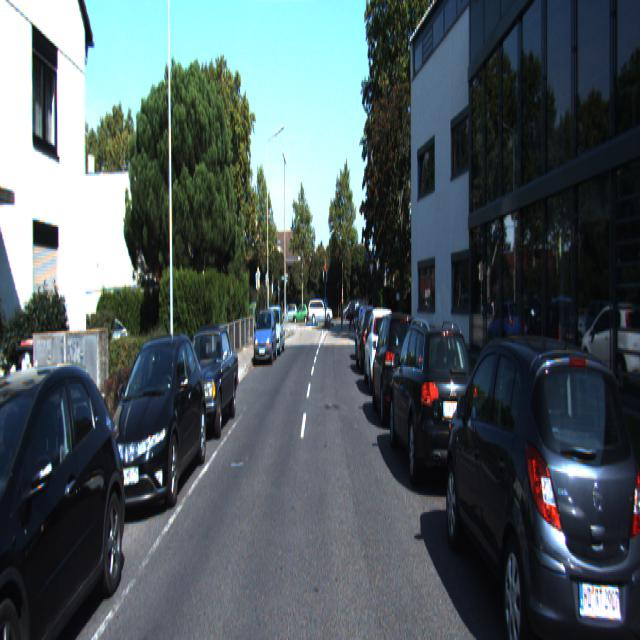Car: (447, 326, 639, 638), (0, 343, 136, 638), (102, 328, 208, 520), (387, 307, 484, 500), (173, 323, 240, 442), (372, 307, 426, 432), (364, 304, 400, 394), (355, 305, 386, 376), (253, 308, 277, 366)
